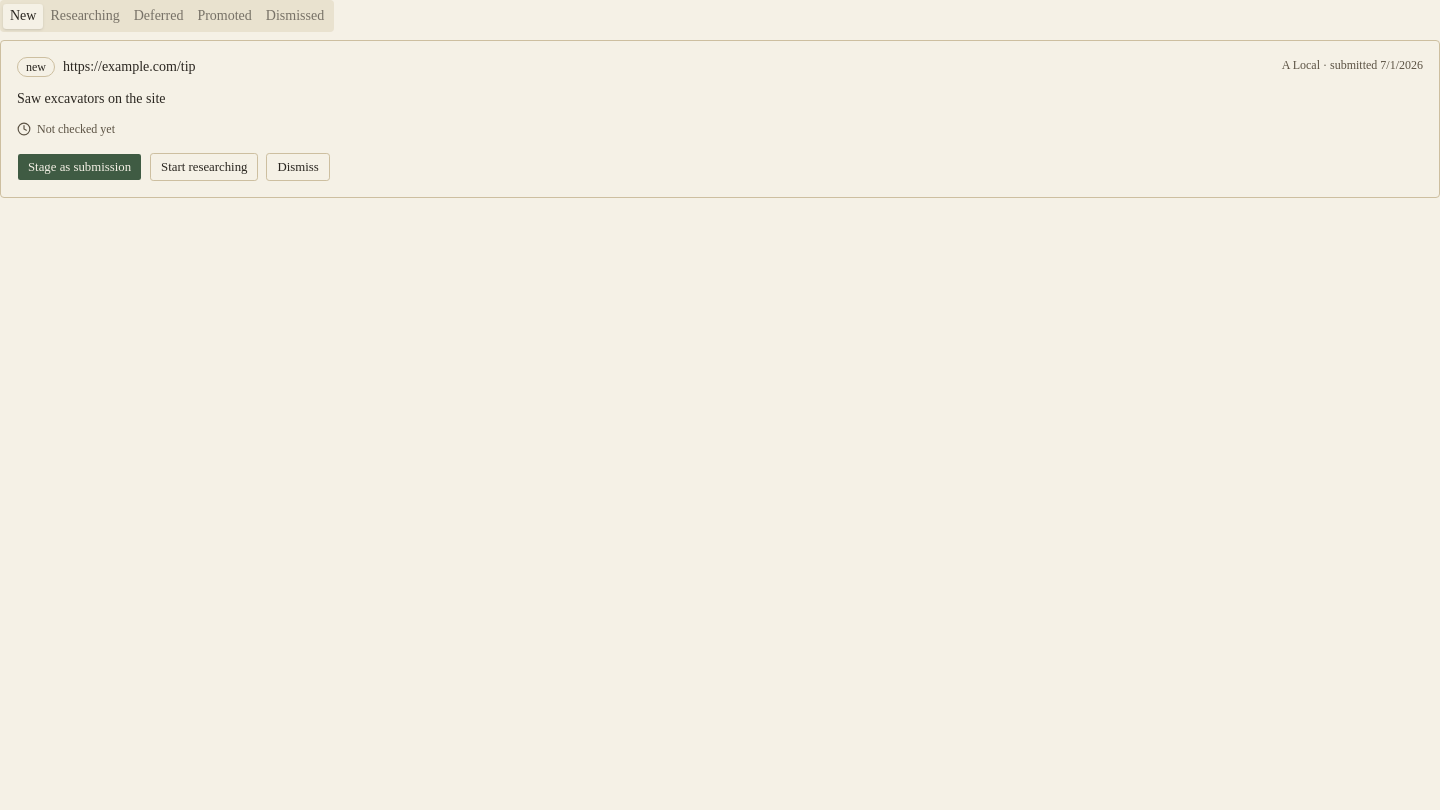
Test: LeadList — stage as submission › opens the dialog and no longer offers 'Mark promoted (no submission)'
The width and height of the screenshot is (1440, 810).
Click the button "Stage as submission" at (80, 167), box [17,153,142,181]
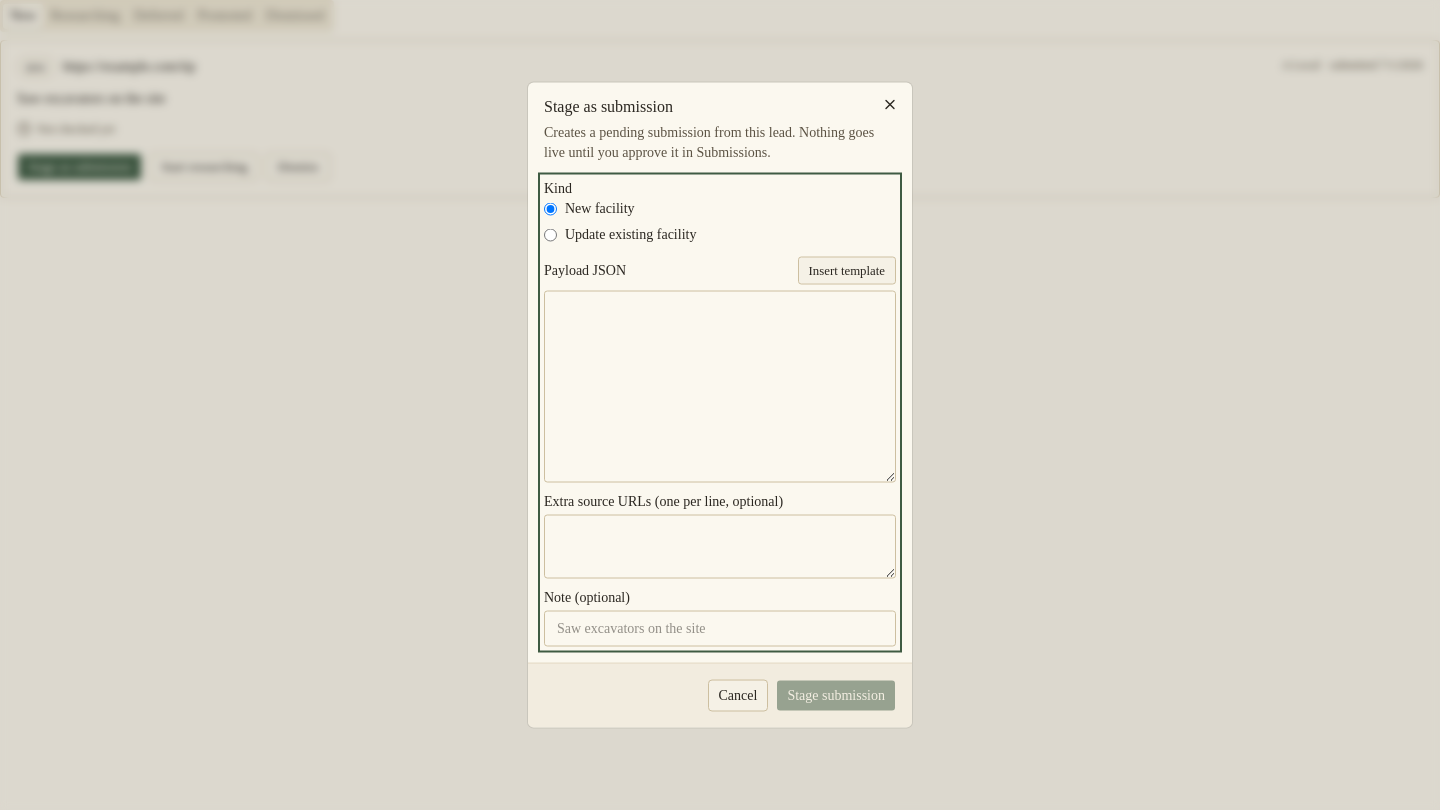
Expected: the dialog is shown, [528,82,912,728]
Expected: the text box labelled "Payload JSON" is shown, [544,290,896,482]
Expected: the radio button labelled "New facility" is checked, [544,202,557,215]
